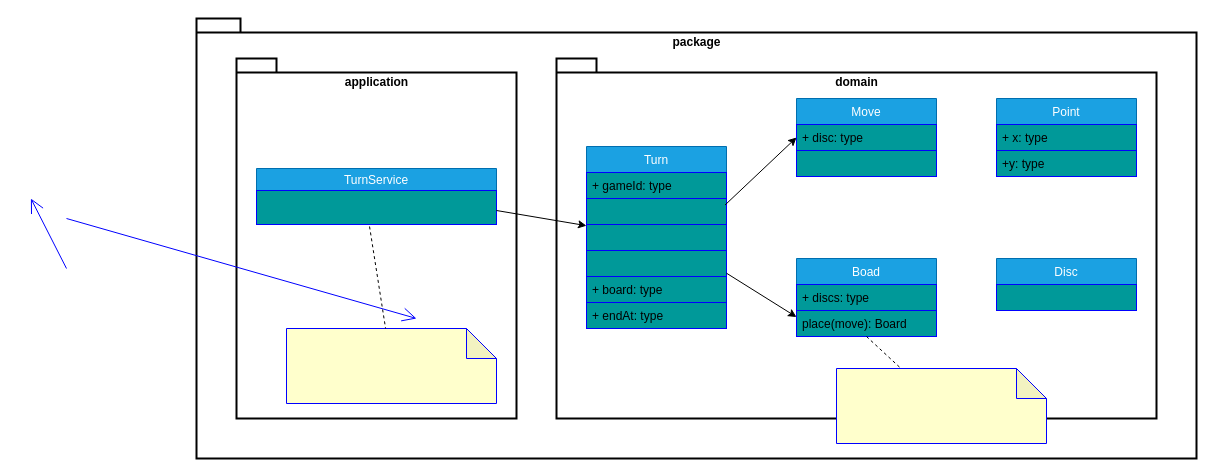
This 1215x476 diagram has some shape labels left out. The shapes that lost their labels are listed below. From the top down, each one's centre as x and y in pixels, then its label:
At point (866, 163): "+point: type".
At point (376, 207): "+ registerTurn(turnCount, disc, x, y)".
At point (656, 211): "+turnCount: type".
At point (656, 237): "+ nextDisc: type".
At point (656, 263): "+ move: type".
At point (1066, 297): "+ value: type".
At point (391, 366): "・１つ前のターンを取得する ・石を置く ・ターンを保存する".
At point (941, 406): "place の内部では ・盤面に置けるかチェック ・石を置く ・ひっくり返す".
